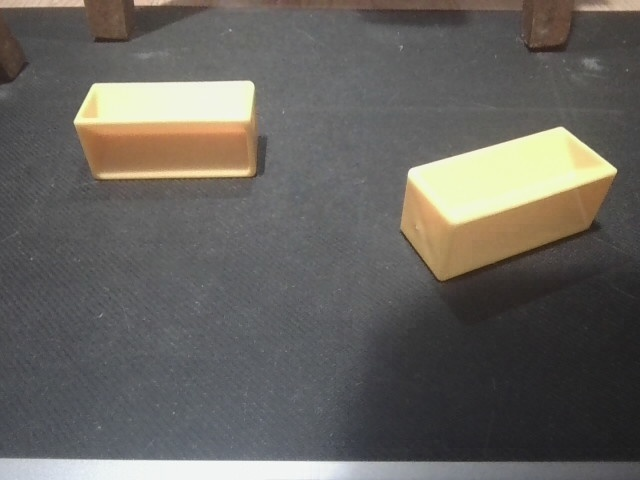YellowSample: (395, 123, 621, 282), (70, 77, 262, 181)
